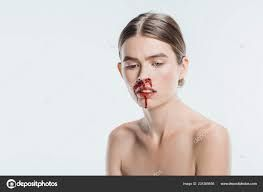no-mask: (113, 17, 201, 109)
